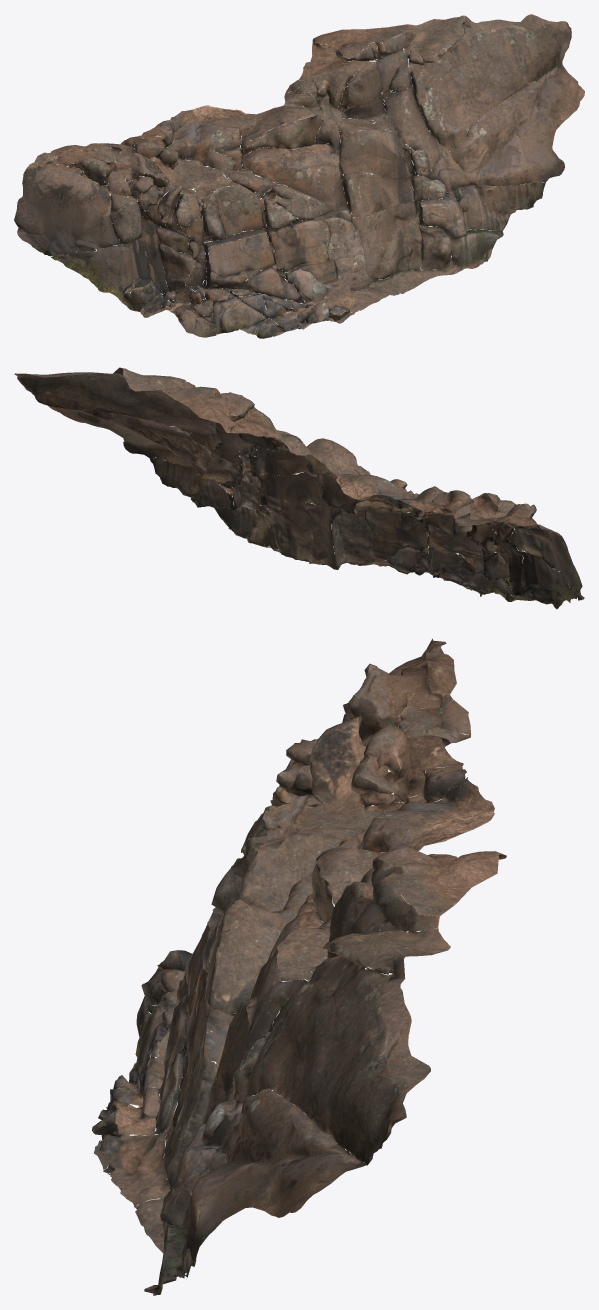
Rendered from kaya_sirti_20m.gltf.
3 renders of one model, top to bottom at view 1: azimuth 30°, elevation 25°; view 2: azimuth 150°, elevation 25°; view 3: azimuth 270°, elevation 25°, orthographic. The views are drawn at different scales.
Visible parts, largest first — view 1: kaya_sirti_20m; view 2: kaya_sirti_20m; view 3: kaya_sirti_20m.
Boxes of the visible parts, x1,y1,x2,y2 form: kaya_sirti_20m: [14, 14, 584, 338]; kaya_sirti_20m: [14, 367, 584, 609]; kaya_sirti_20m: [92, 638, 506, 1295].
Size of what is drawn, in the model's own units: 20.22 by 7.19 by 6.61.
Materials: 1 (1 with a texture image).
